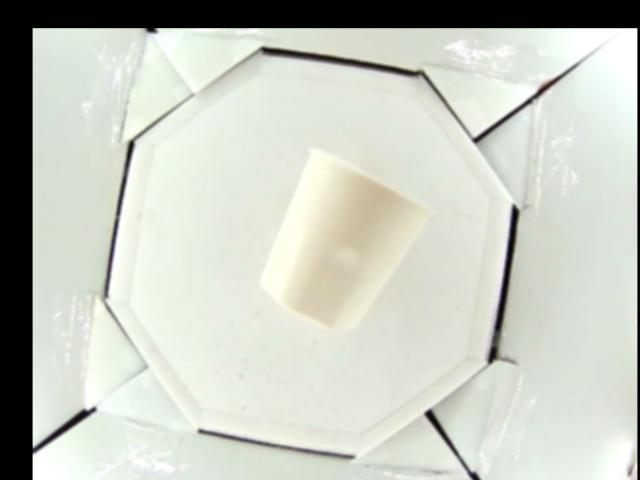Cup: (259, 147, 429, 329)
